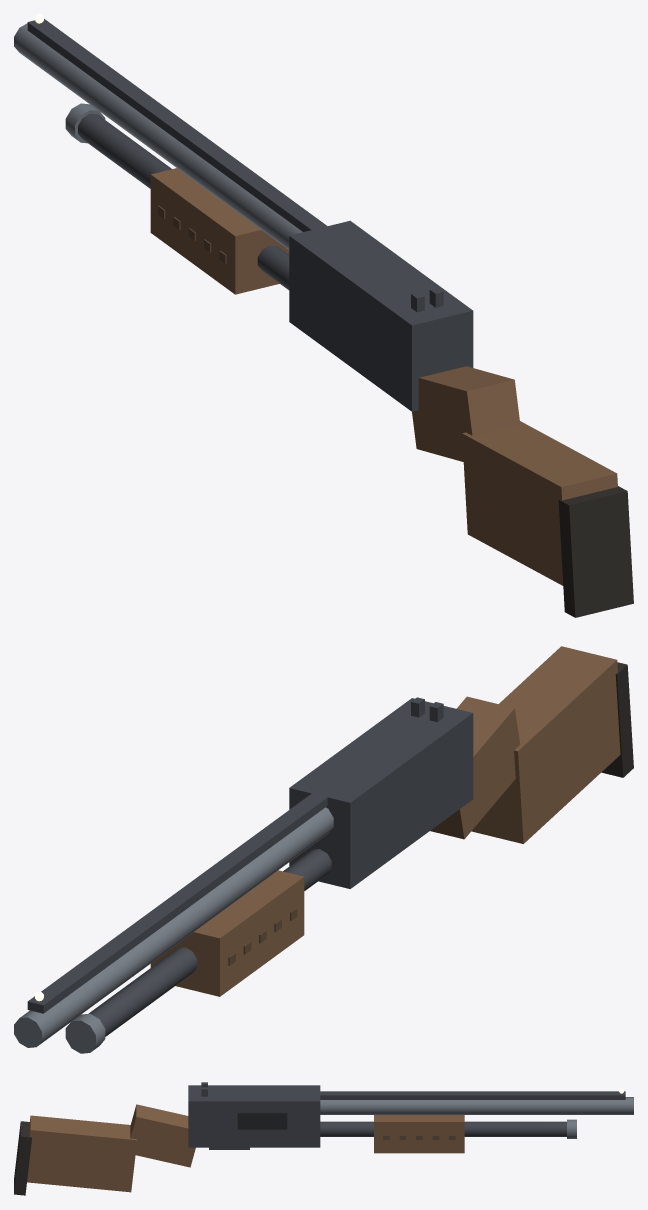
Rendered from pump_shotgun.glb.
The picture shows the model from 3 angles, top to bottom: view 1: azimuth 30°, elevation 25°; view 2: azimuth 150°, elevation 25°; view 3: azimuth 270°, elevation 25°; orthographic projection. The views are drawn at different scales.
Visible parts, largest first — view 1: Merged; view 2: Merged; view 3: Merged.
Part boxes in pixels (bbox=[...]): Merged: bbox=[14, 14, 633, 617]; Merged: bbox=[14, 646, 633, 1053]; Merged: bbox=[14, 1082, 633, 1195].
Bounding box in the file's own units: 0.1053 × 0.2662 × 1.46.
